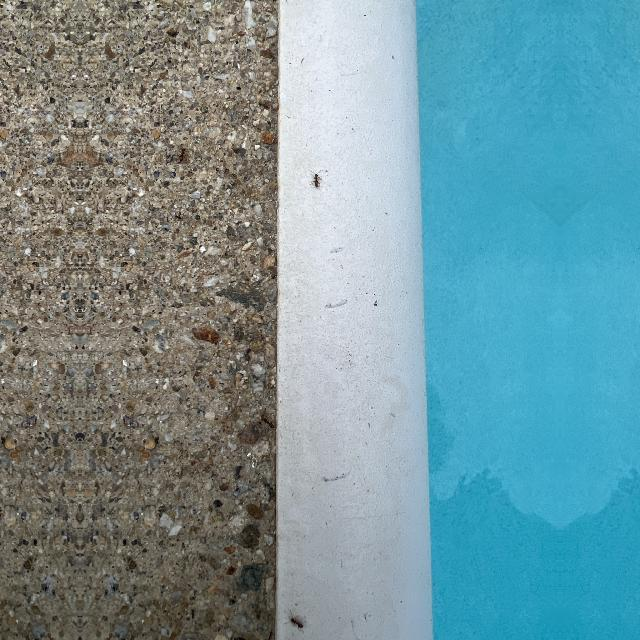Tapinoma: (312, 171, 322, 189)
